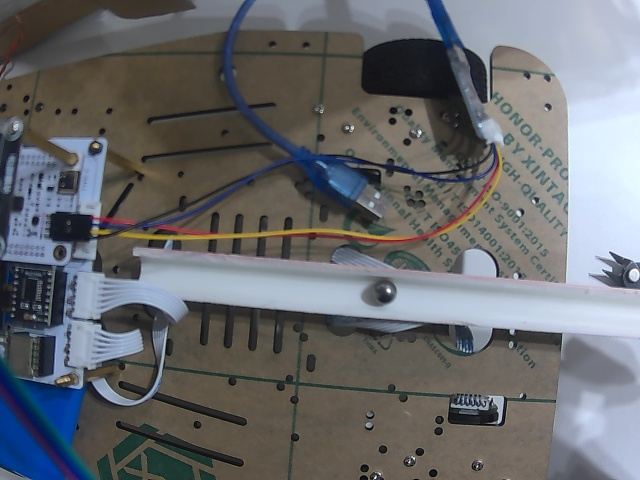steelball: (372, 279, 397, 303)
